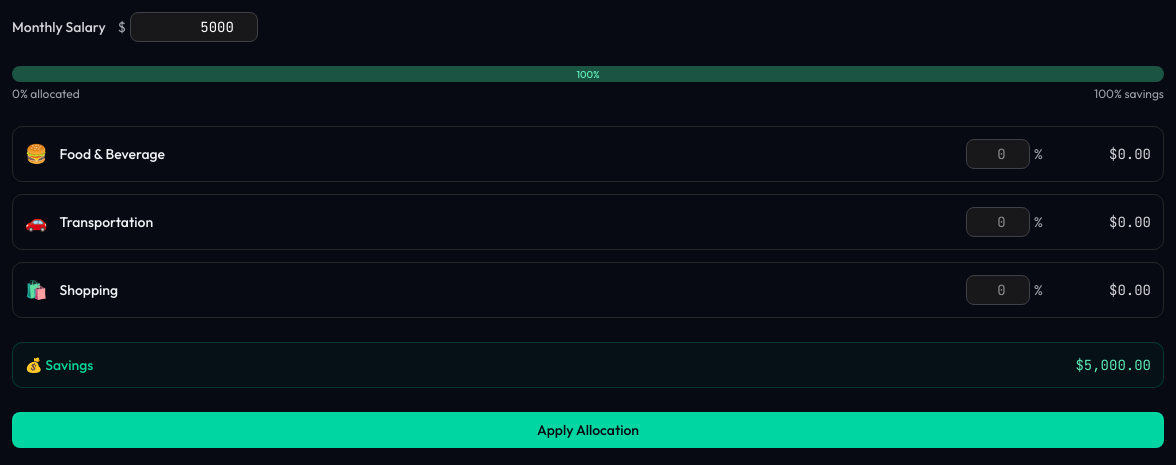
Test: SalaryAllocation › updates dollar amounts when percentage inputs change
Type "10" into the number field with test id "pct-input-cat-food".
click(998, 154); type("10")  # box [966,139,1030,169]
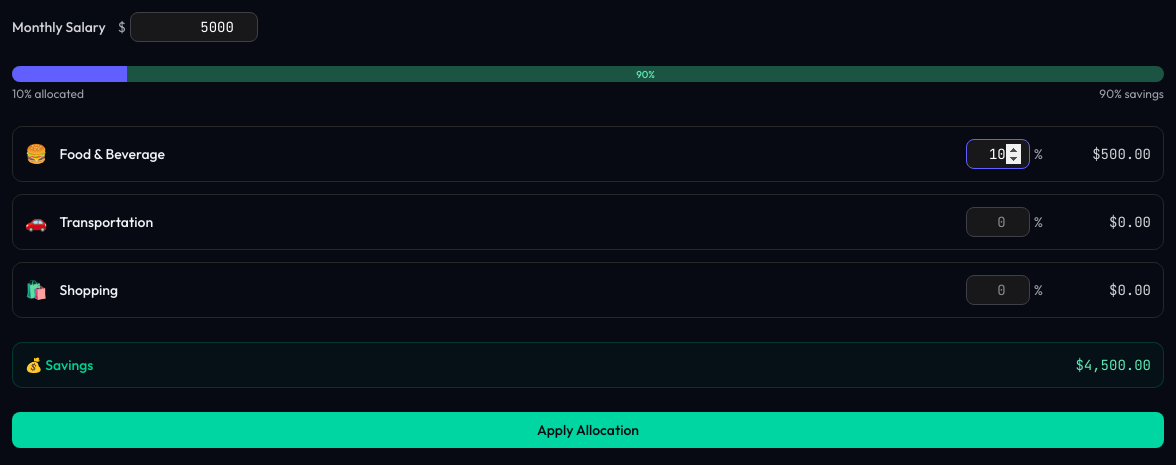
Now the element with test id "allocation-row-cat-food" shows "500", box [1101,145,1151,163]
